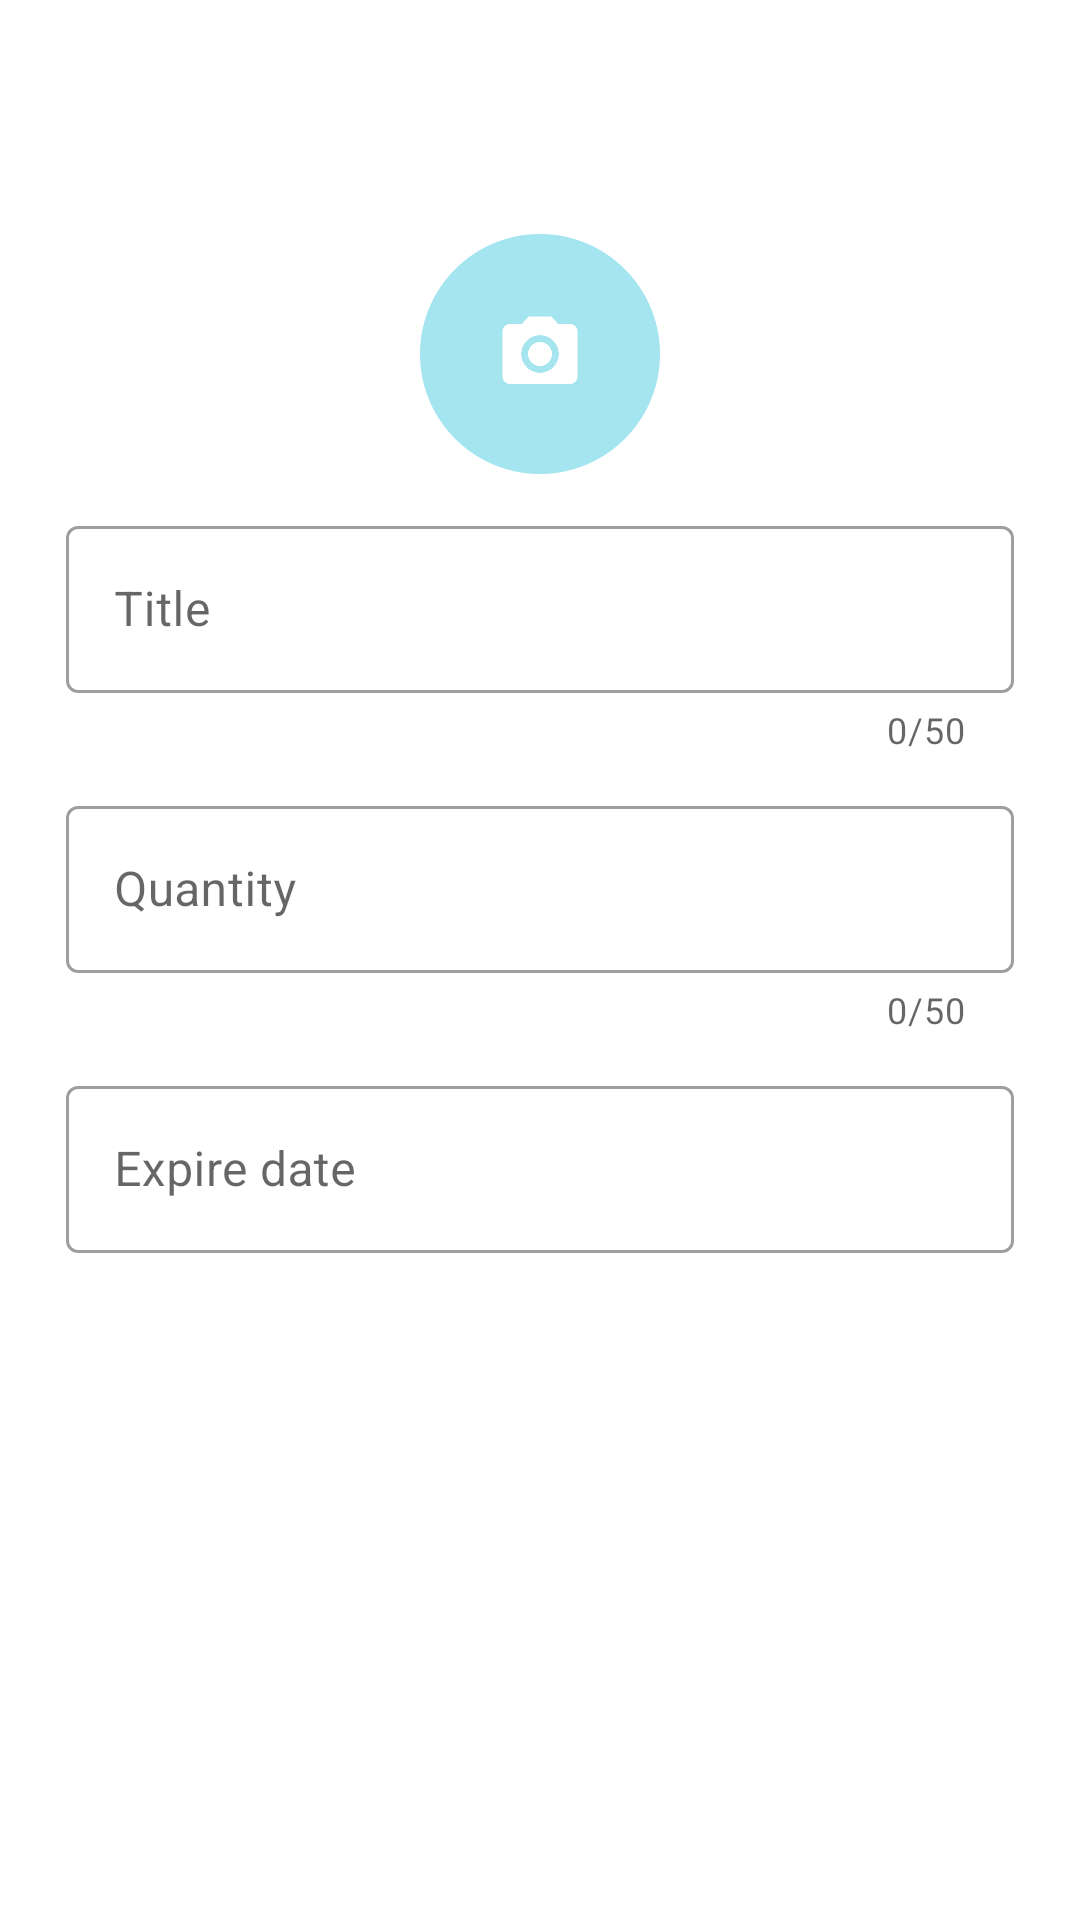

Locate icon controls on the screen. Image size 1080*1920, boxes as (x1, y1, x2, y2).
photo apply: (420, 234, 660, 474)
